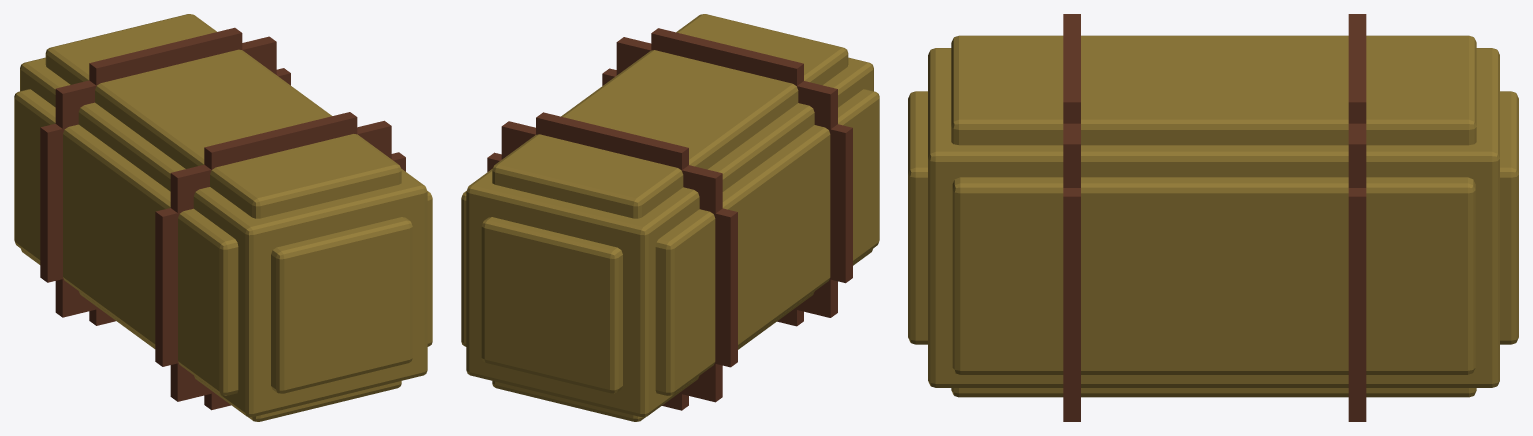
Rendered from Hay.fbx.
The picture shows the model from 3 angles, left to right: view 1: azimuth 30°, elevation 25°; view 2: azimuth 150°, elevation 25°; view 3: azimuth 270°, elevation 25°; orthographic projection. The views are drawn at different scales.
Parts seen in each view (by area): view 1: Cube, Cube.001, Cube.002; view 2: Cube, Cube.002, Cube.001; view 3: Cube, Cube.002, Cube.001.
Boxes of the visible parts, x1,y1,x2,y2 form: Cube: (14,14,432,421); Cube.001: (155,112,405,410); Cube.002: (40,27,290,325); Cube: (461,14,879,421); Cube.002: (487,112,737,410); Cube.001: (602,28,852,326); Cube: (908,35,1518,397); Cube.002: (1348,14,1366,421); Cube.001: (1063,14,1080,421).
Bounding box in the file's own units: 453 × 458 × 793.
